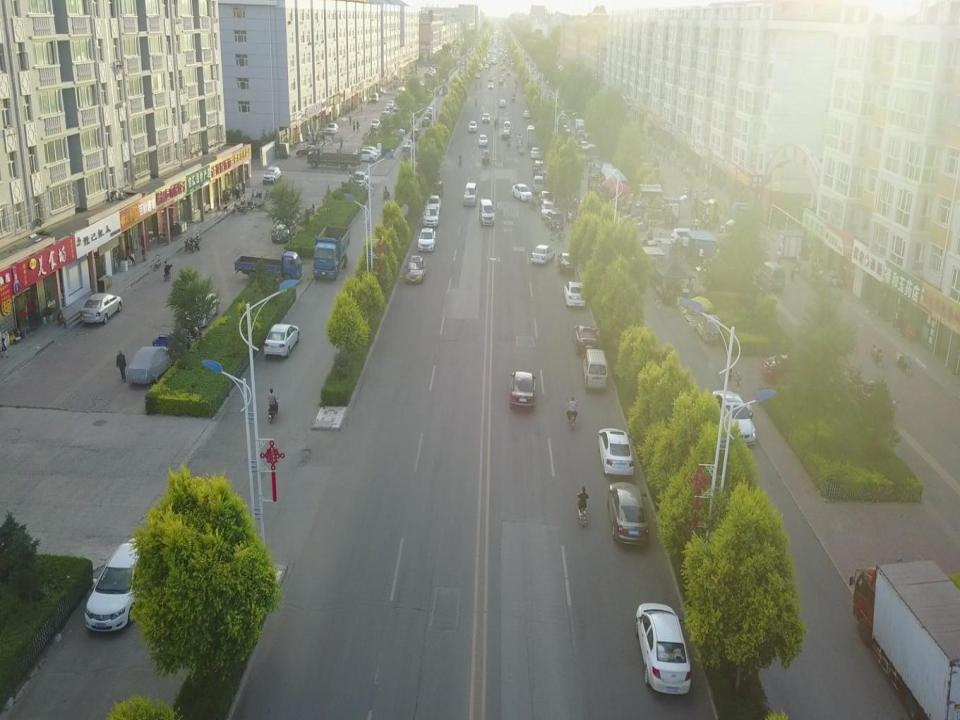car: (84, 538, 150, 632), (634, 600, 691, 698), (605, 482, 651, 547), (711, 388, 757, 445), (597, 425, 635, 478), (126, 343, 169, 384), (260, 321, 300, 358), (180, 292, 221, 328), (82, 290, 124, 325), (509, 372, 538, 411), (575, 324, 599, 354), (564, 280, 588, 308), (271, 216, 291, 244), (555, 250, 573, 275), (408, 257, 424, 283), (358, 143, 378, 163), (531, 241, 550, 262), (418, 228, 434, 250), (541, 200, 560, 218), (510, 184, 530, 200), (296, 143, 318, 157), (263, 164, 281, 180), (462, 183, 476, 203), (424, 208, 438, 225), (542, 189, 555, 206), (429, 193, 439, 213), (583, 140, 597, 154), (403, 142, 412, 163), (533, 173, 541, 194), (411, 126, 421, 142), (532, 159, 547, 169), (419, 114, 429, 129), (532, 144, 542, 156), (526, 124, 534, 139), (481, 112, 492, 122), (502, 126, 511, 138), (482, 150, 490, 162), (522, 108, 530, 120), (563, 120, 571, 132), (386, 95, 395, 105), (502, 114, 513, 122), (427, 104, 434, 116), (478, 133, 486, 143), (469, 118, 475, 130), (382, 106, 389, 114), (499, 97, 504, 107), (515, 131, 523, 137)
truck: (852, 559, 960, 719), (234, 249, 304, 282), (315, 223, 351, 281), (306, 140, 363, 170), (574, 115, 584, 136)
van: (580, 348, 606, 392), (759, 258, 784, 292), (480, 200, 496, 228), (323, 121, 338, 134), (371, 118, 381, 130), (370, 89, 378, 100)
